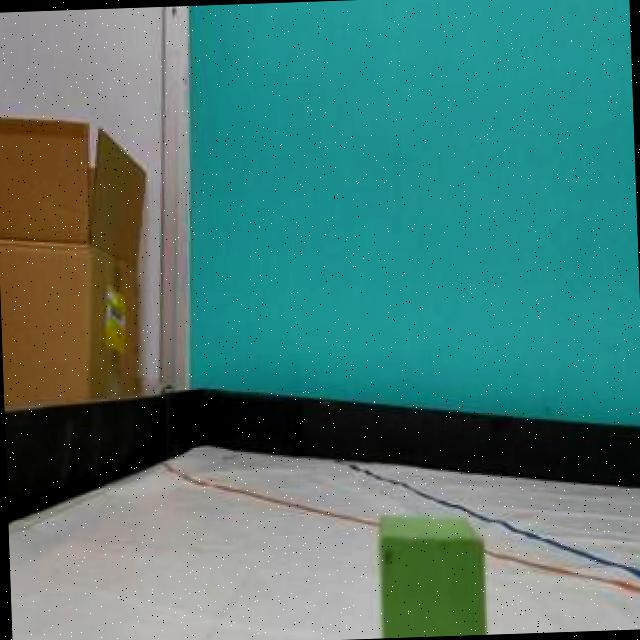greenbox: (374, 504, 488, 638)
